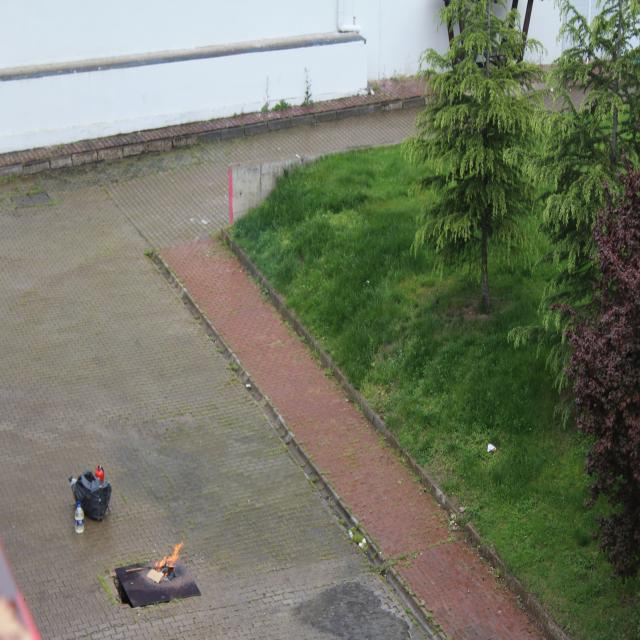fire: (151, 534, 187, 593)
